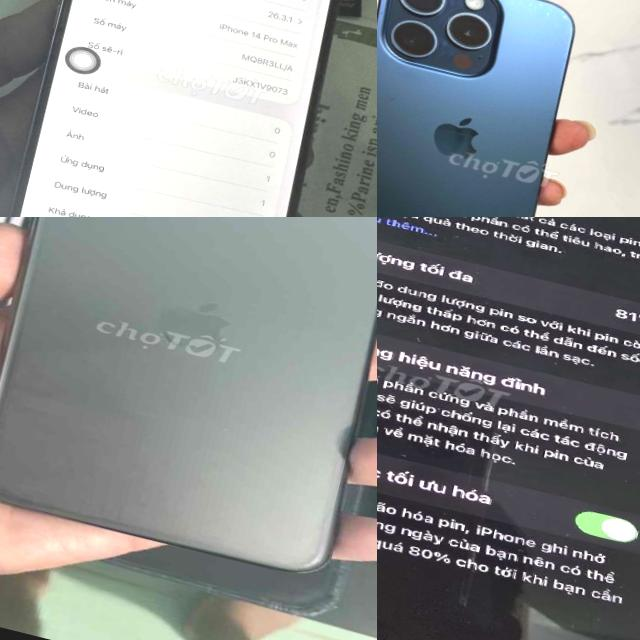gen_11: (0, 217, 377, 588)
gen_14: (377, 217, 640, 640), (0, 0, 377, 217)
gen_15: (377, 0, 610, 217)
